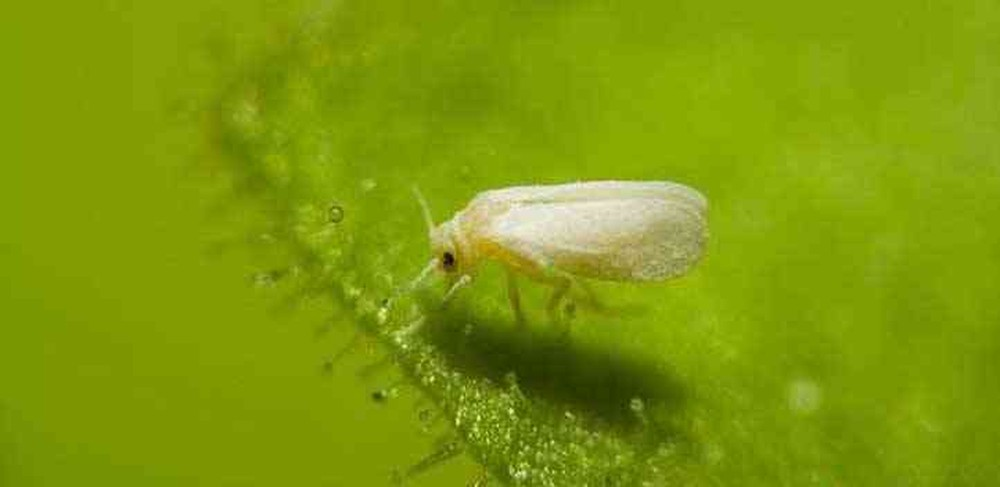Mosca Blanca: (377, 139, 735, 369)
